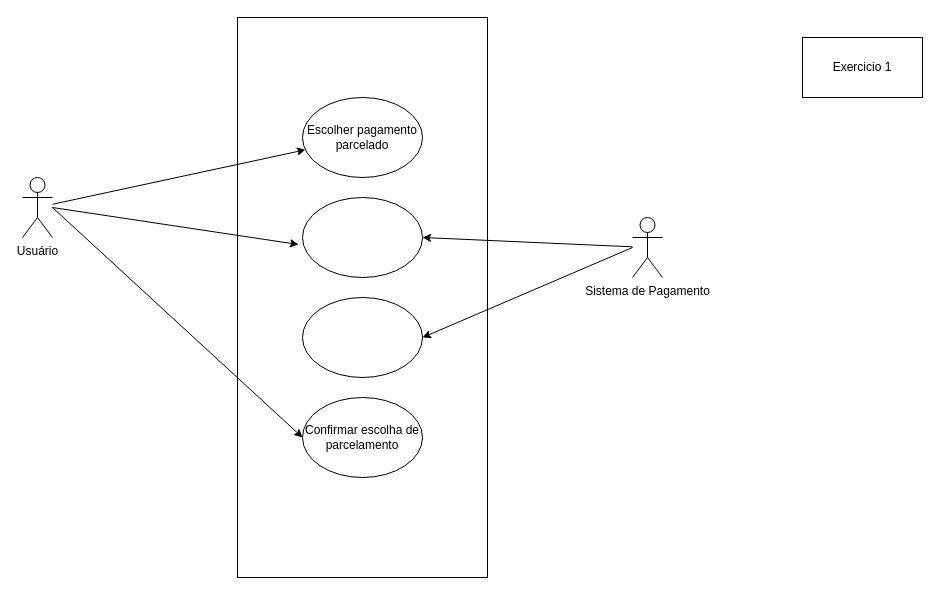
This 940x595 diagram has some shape labels left out. The shapes that lost their labels are listed below. From the top down, each one's centre as x and y in pixels, then its label:
the point at 362,237: Selecionar opção de pagamento
the point at 362,337: Calcular o valor das parcelas
